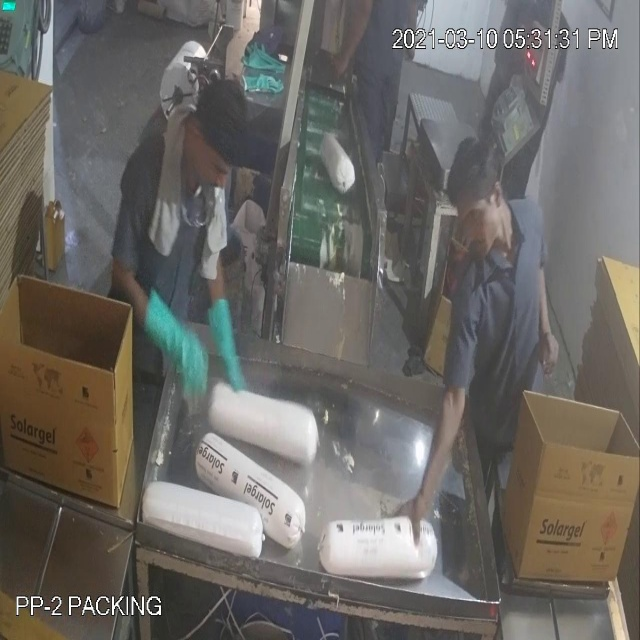Guantes: (138, 292, 214, 421), (202, 285, 252, 404)
Sin_guantes: (378, 365, 478, 564), (526, 247, 570, 395)
